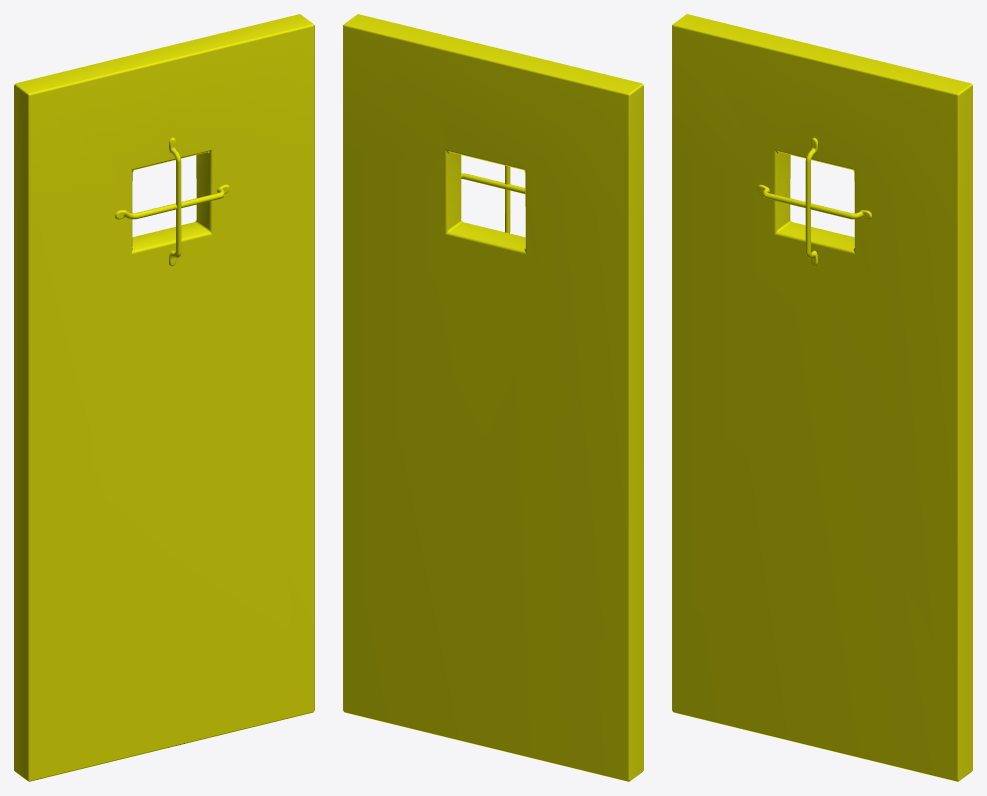
Rendered from Door1Square1.fbx.
The picture shows the model from 3 angles, left to right: view 1: azimuth 30°, elevation 25°; view 2: azimuth 150°, elevation 25°; view 3: azimuth 330°, elevation 25°; orthographic projection.
Visible parts, largest first — view 1: Door1Square1; view 2: Door1Square1; view 3: Door1Square1.
Boxes of the visible parts, x1,y1,x2,y2 form: Door1Square1: (14, 14, 314, 781); Door1Square1: (343, 14, 643, 781); Door1Square1: (672, 14, 972, 781).
Size of the model in its own units: 110 by 252 by 15.58.
